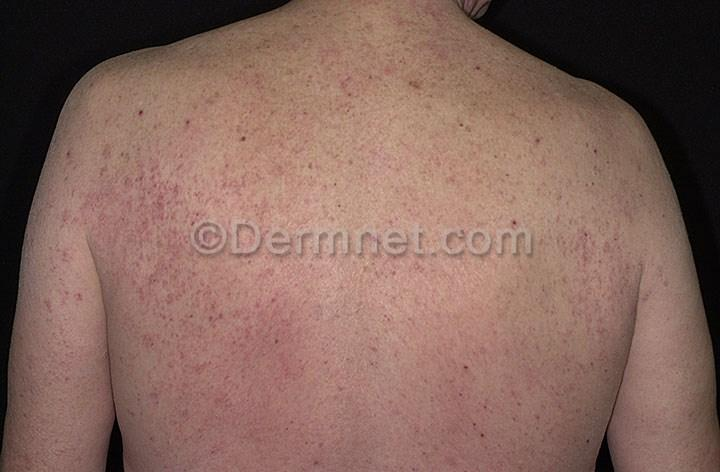Eczema: (241, 158, 340, 308), (109, 97, 234, 207), (132, 318, 268, 401), (124, 401, 269, 468), (393, 193, 464, 320), (186, 209, 264, 319), (555, 143, 646, 236), (106, 210, 188, 313), (435, 329, 520, 428), (566, 240, 648, 342), (271, 309, 368, 394), (229, 80, 326, 164), (251, 390, 352, 462), (352, 383, 432, 472), (500, 233, 565, 336), (345, 201, 405, 310), (330, 47, 415, 121), (491, 141, 560, 229), (414, 118, 495, 190), (33, 244, 95, 331), (157, 31, 242, 93), (246, 12, 321, 82), (342, 120, 407, 200), (525, 331, 570, 439), (461, 196, 498, 320), (415, 42, 474, 116), (366, 314, 424, 389), (41, 332, 92, 416), (473, 42, 523, 118), (0, 351, 42, 436), (315, 0, 391, 46), (526, 69, 569, 150), (561, 343, 623, 398), (37, 188, 95, 246), (567, 384, 605, 466), (490, 428, 560, 472), (427, 422, 488, 472), (57, 141, 111, 190), (405, 0, 460, 42)
